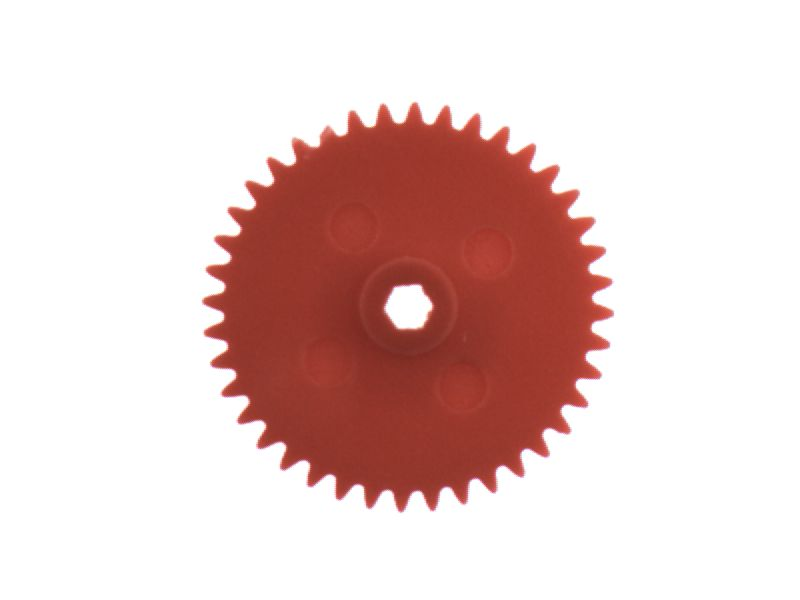defect_break: (300, 111, 346, 153)
